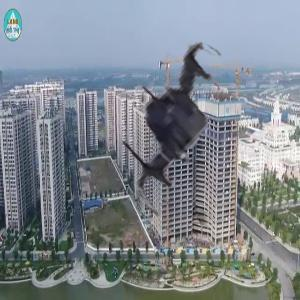drone: (91, 40, 270, 219)
